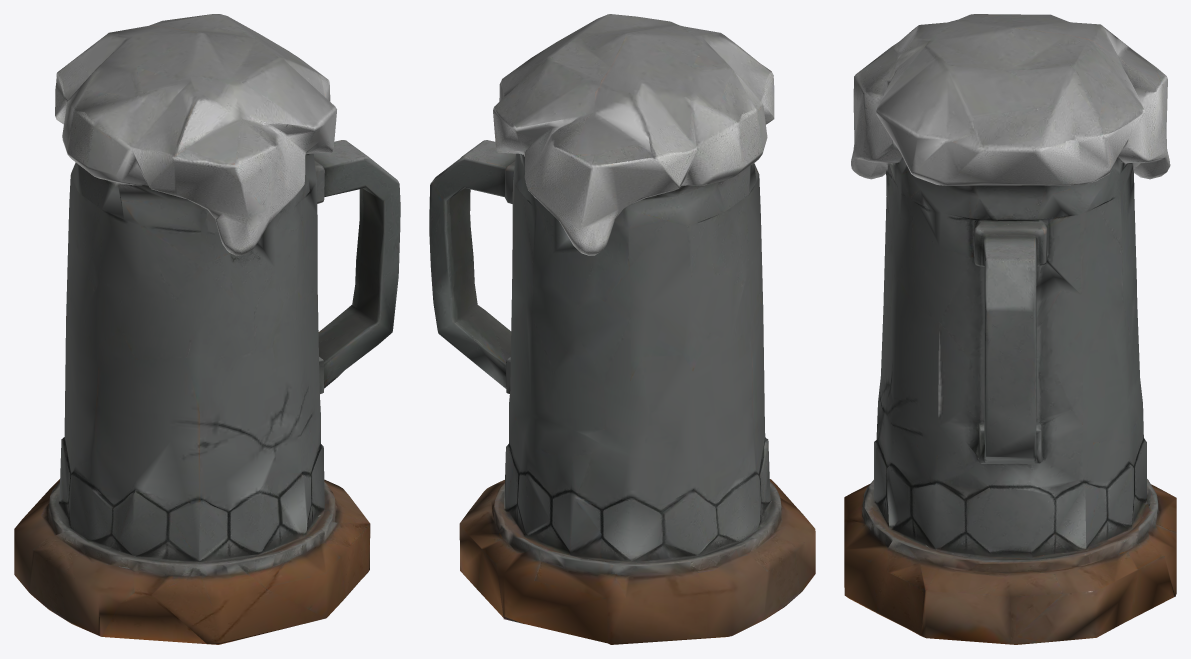
Rendered from token-beer-stein.glb.
The picture shows the model from 3 angles, left to right: view 1: azimuth 30°, elevation 25°; view 2: azimuth 150°, elevation 25°; view 3: azimuth 270°, elevation 25°; orthographic projection.
Bounding box in the file's own units: 1.27 × 1.9 × 1.04.
1 material, 1 textured.
